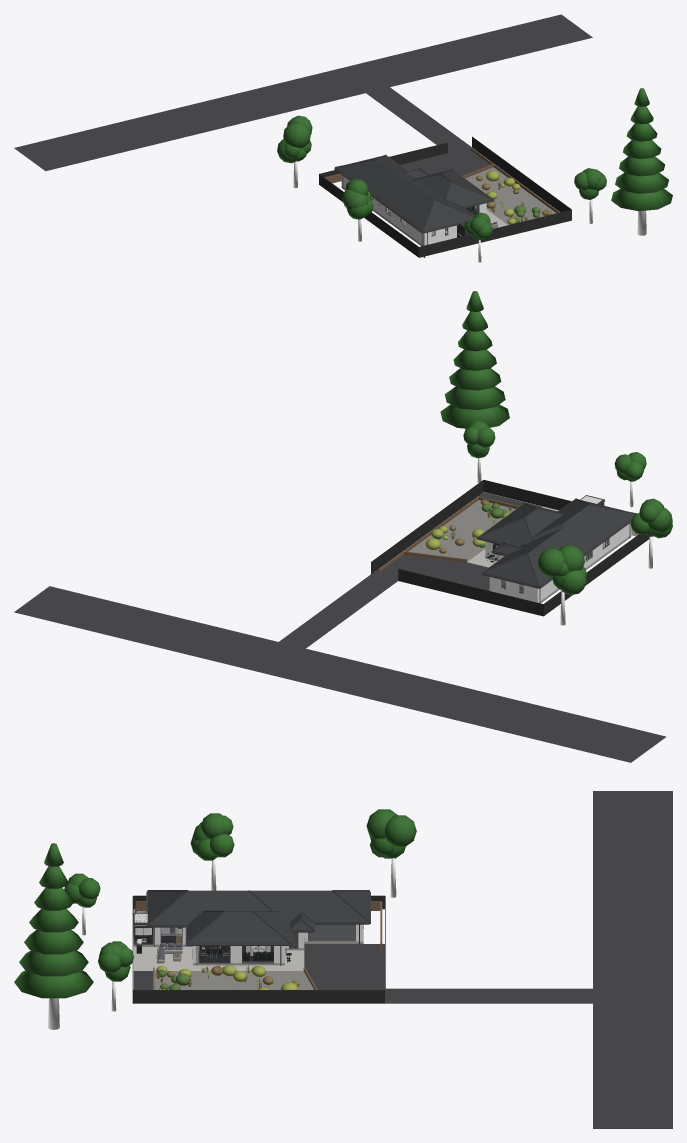
3 views of the same model, one above another, from view 1: azimuth 30°, elevation 25°; view 2: azimuth 150°, elevation 25°; view 3: azimuth 270°, elevation 25° (orthographic). The views are drawn at different scales.
Parts seen in each view (by area): view 1: Appold Street, Roof, Right-of-way to Appold St, Gravel garden E, Fence S, Driveway (asphalt), Fence E, Exterior walls, Norfolk pine (neighbour) tier 0, Fence W, Norfolk pine (neighbour) tier 1, Norfolk pine (neighbour) tier 2 (+4 smaller); view 2: Appold Street, Roof, Right-of-way to Appold St, Gravel garden E, Driveway (asphalt), Fence N, Exterior walls, Fence E, Norfolk pine (neighbour) tier 0, Norfolk pine (neighbour) tier 1, Fence S, Fence W (+2 smaller); view 3: Appold Street, Roof, Driveway (asphalt), Fence E, Right-of-way to Appold St, Gravel garden E, Norfolk pine (neighbour) tier 0, Norfolk pine (neighbour) tier 1, Norfolk pine (neighbour) tier 2, Exterior walls, Norfolk pine (neighbour) tier 3, Tree NW canopy.001 (+8 smaller).
Boxes of the visible parts, bbox=[...] form: Appold Street: bbox=[14, 14, 592, 171]; Roof: bbox=[336, 155, 491, 231]; Right-of-way to Appold St: bbox=[366, 87, 471, 152]; Gravel garden E: bbox=[465, 167, 556, 224]; Fence S: bbox=[419, 209, 571, 257]; Driveway (asphalt): bbox=[400, 147, 490, 176]; Fence E: bbox=[472, 136, 571, 212]; Exterior walls: bbox=[341, 175, 486, 245]; Norfolk pine (neighbour) tier 0: bbox=[611, 188, 672, 211]; Fence W: bbox=[319, 174, 418, 257]; Norfolk pine (neighbour) tier 1: bbox=[615, 173, 668, 193]; Norfolk pine (neighbour) tier 2: bbox=[619, 156, 664, 176]; Appold Street: bbox=[14, 586, 666, 762]; Roof: bbox=[479, 499, 635, 586]; Right-of-way to Appold St: bbox=[279, 574, 397, 648]; Gravel garden E: bbox=[408, 500, 515, 561]; Driveway (asphalt): bbox=[372, 554, 489, 590]; Fence N: bbox=[398, 569, 543, 616]; Exterior walls: bbox=[485, 523, 631, 602]; Fence E: bbox=[371, 480, 483, 573]; Norfolk pine (neighbour) tier 0: bbox=[440, 404, 509, 428]; Norfolk pine (neighbour) tier 1: bbox=[444, 386, 505, 410]; Fence S: bbox=[483, 480, 571, 510]; Fence W: bbox=[543, 534, 649, 616]; Appold Street: bbox=[593, 791, 672, 1128]; Roof: bbox=[148, 891, 369, 943]; Driveway (asphalt): bbox=[304, 944, 384, 989]; Fence E: bbox=[133, 990, 384, 1003]; Right-of-way to Appold St: bbox=[385, 988, 592, 1003]; Gravel garden E: bbox=[154, 971, 313, 989]; Norfolk pine (neighbour) tier 0: bbox=[14, 970, 93, 998]; Norfolk pine (neighbour) tier 1: bbox=[19, 950, 88, 976]; Norfolk pine (neighbour) tier 2: bbox=[24, 929, 83, 954]; Exterior walls: bbox=[153, 924, 363, 963]; Norfolk pine (neighbour) tier 3: bbox=[29, 908, 78, 932]; Tree NW canopy.001: bbox=[384, 815, 416, 846].
Size of what is drawn, in the model's own units: 80 by 20.5 by 66.
